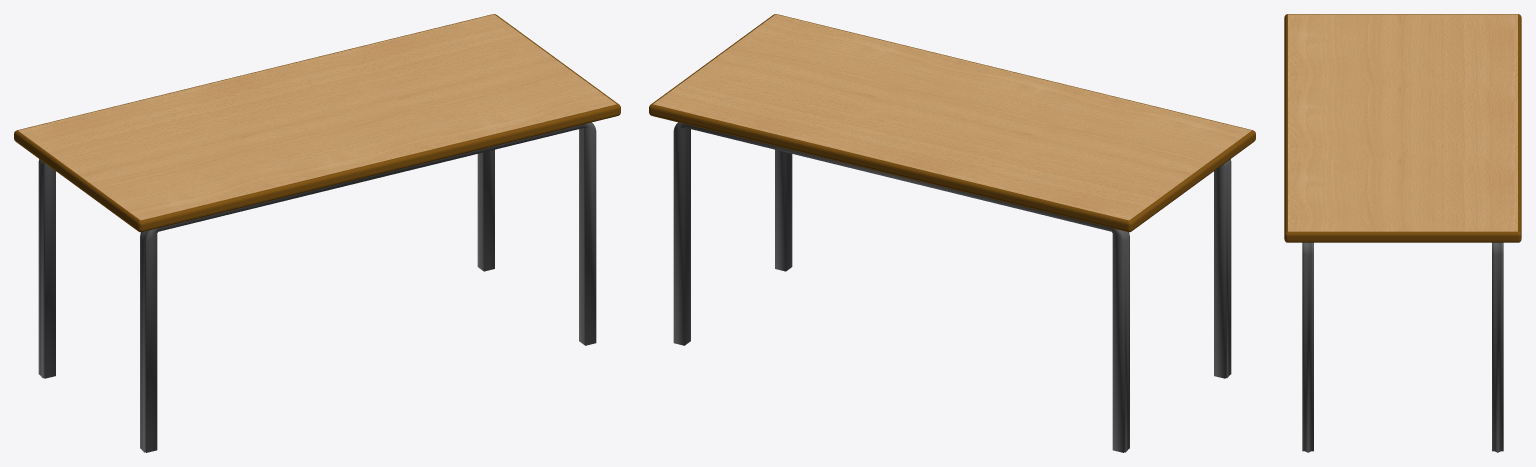
File: double_desk.glb
3 views of the same model, side by side, from view 1: azimuth 30°, elevation 25°; view 2: azimuth 150°, elevation 25°; view 3: azimuth 270°, elevation 25° (orthographic). The views are drawn at different scales.
Visible parts, largest first — view 1: surface, front_leg, back_leg; view 2: surface, back_leg, front_leg; view 3: surface, back_leg, front_leg.
Boxes of the visible parts, x1=… form: surface: x1=14, y1=14, x2=620, y2=232; front_leg: x1=140, y1=122, x2=596, y2=452; back_leg: x1=38, y1=149, x2=494, y2=378; surface: x1=649, y1=14, x2=1255, y2=232; back_leg: x1=673, y1=122, x2=1129, y2=452; front_leg: x1=775, y1=149, x2=1231, y2=378; surface: x1=1284, y1=14, x2=1521, y2=242; back_leg: x1=1492, y1=242, x2=1503, y2=452; front_leg: x1=1302, y1=242, x2=1313, y2=452.
Bounding box in the file's own units: 4.4 × 2.12 × 2.
3 materials, 1 textured.
